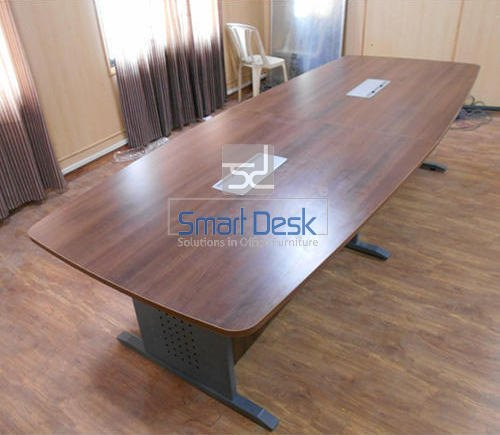conference_table: (27, 51, 480, 432)
